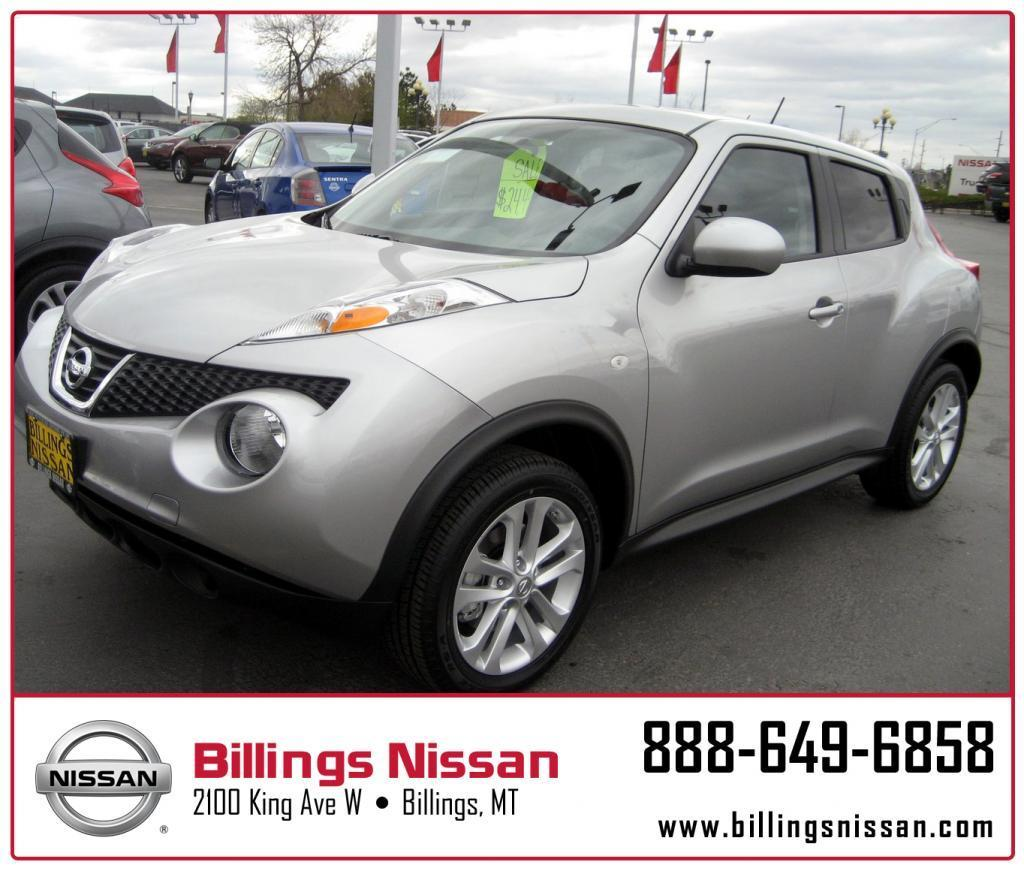Hatchback: (13, 101, 984, 690)
